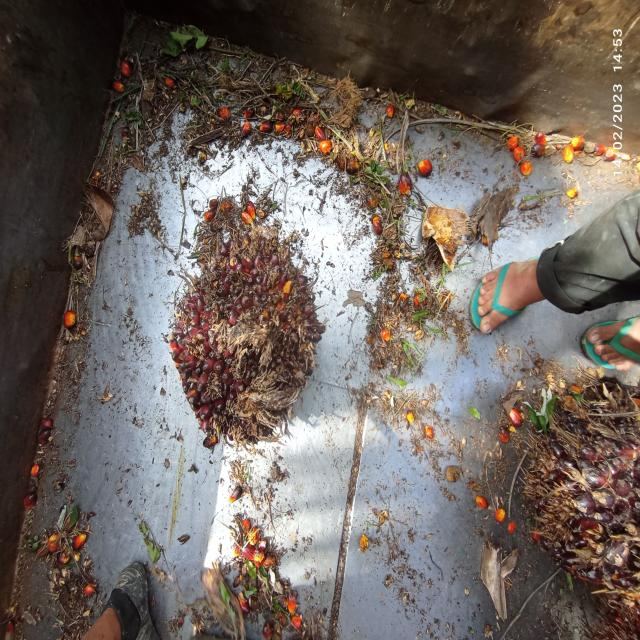fraksi 1: (134, 152, 328, 504)
